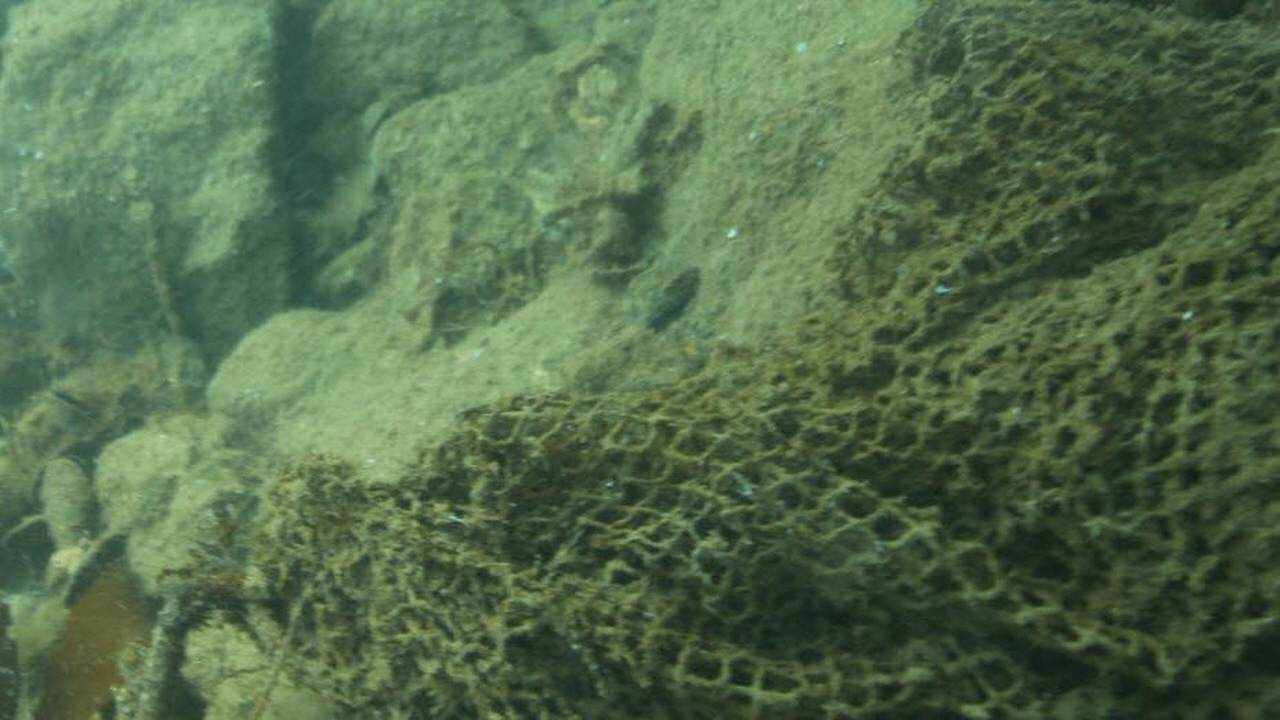fish net: (271, 0, 1280, 719)
